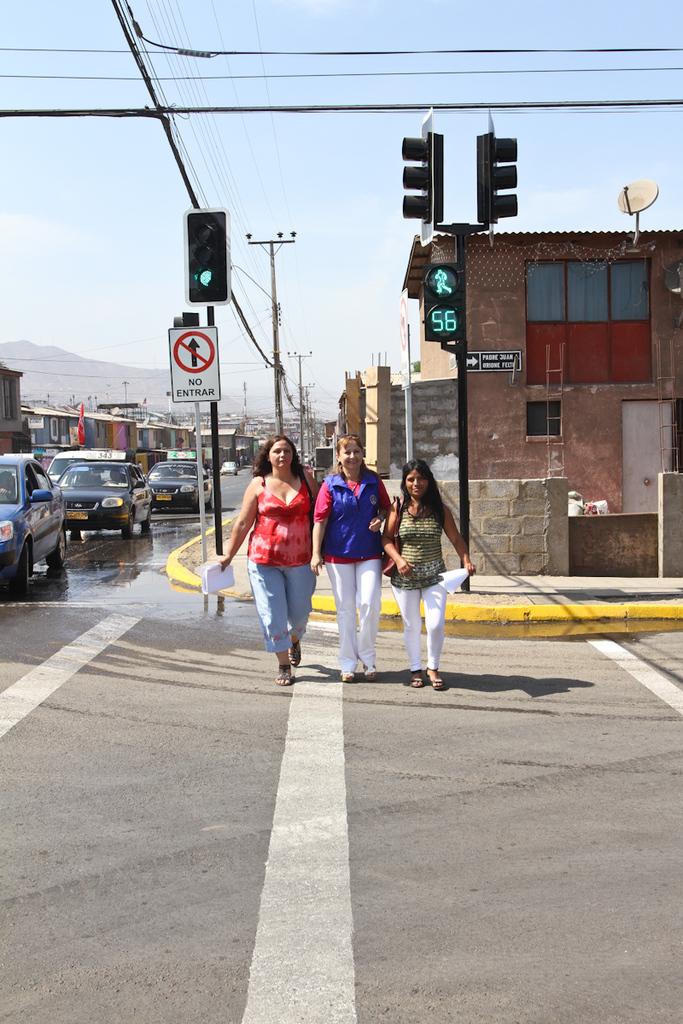green_light: (188, 214, 225, 303)
